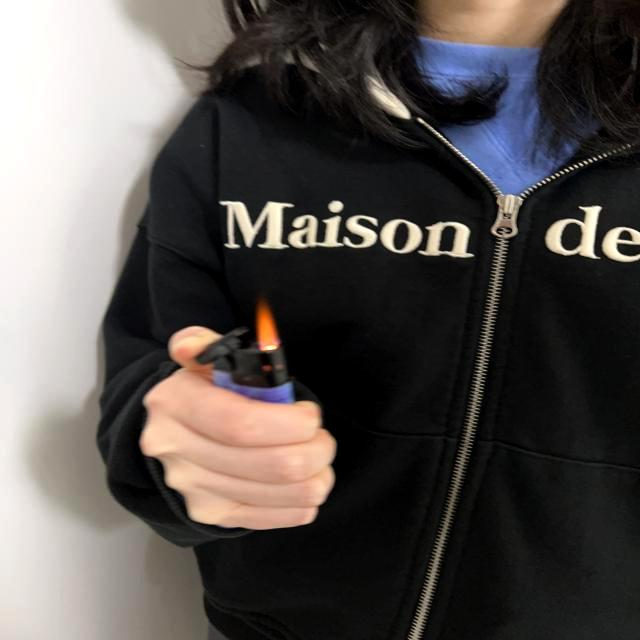fire: (256, 296, 280, 352)
